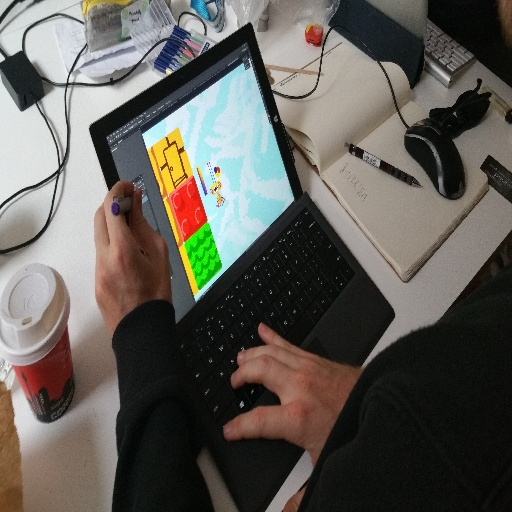hand: (224, 321, 363, 511), (86, 178, 167, 340)
